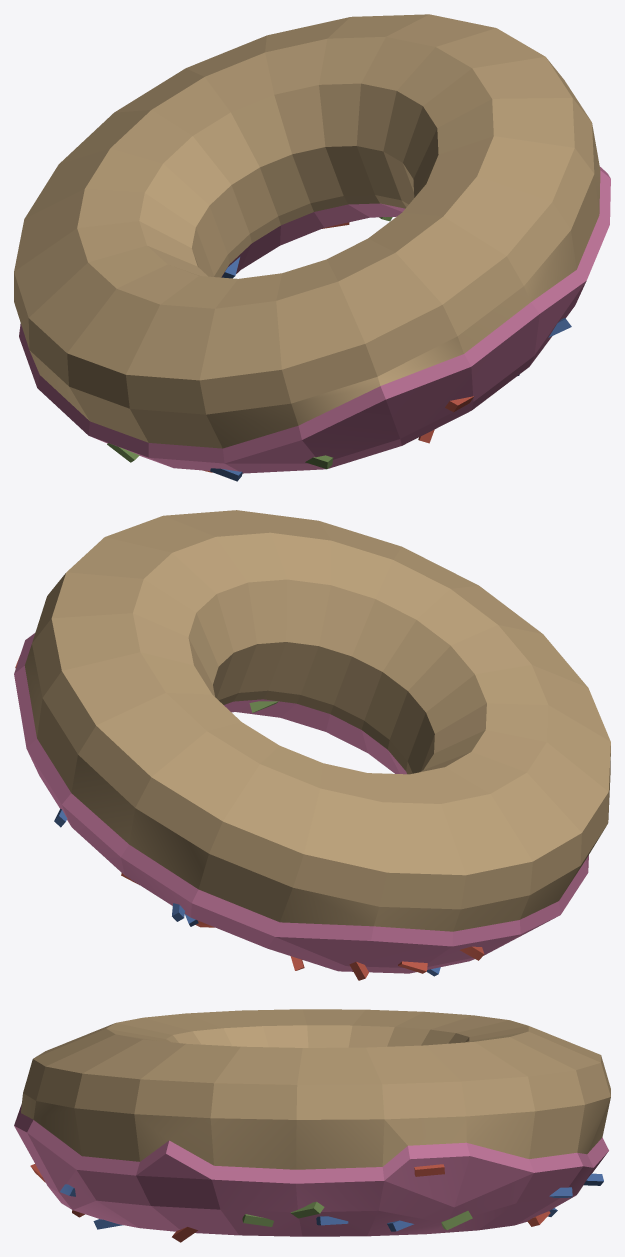
Rendered from donut.dae.
3 renders of one model, top to bottom at view 1: azimuth 30°, elevation 25°; view 2: azimuth 150°, elevation 25°; view 3: azimuth 270°, elevation 25°, orthographic. The views are drawn at different scales.
Parts seen in each view (by area): view 1: Donut1; view 2: Donut1; view 3: Donut1.
Boxes of the visible parts, x1,y1,x2,y2 form: Donut1: (14,14,610,481); Donut1: (14,510,610,980); Donut1: (14,1009,610,1242).
Bounding box in the file's own units: 3.5 × 3.66 × 2.02.
